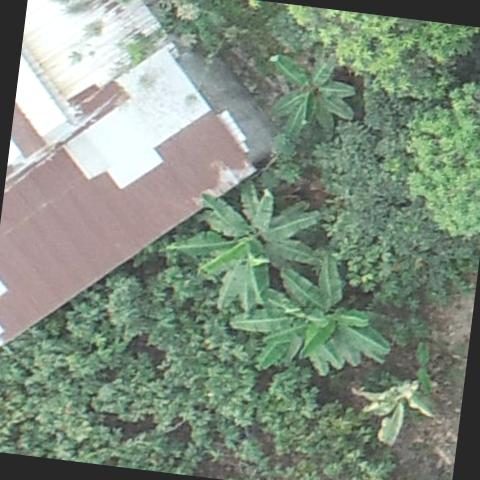Banana-plant: (156, 164, 325, 318), (229, 248, 404, 396), (254, 37, 364, 147)
